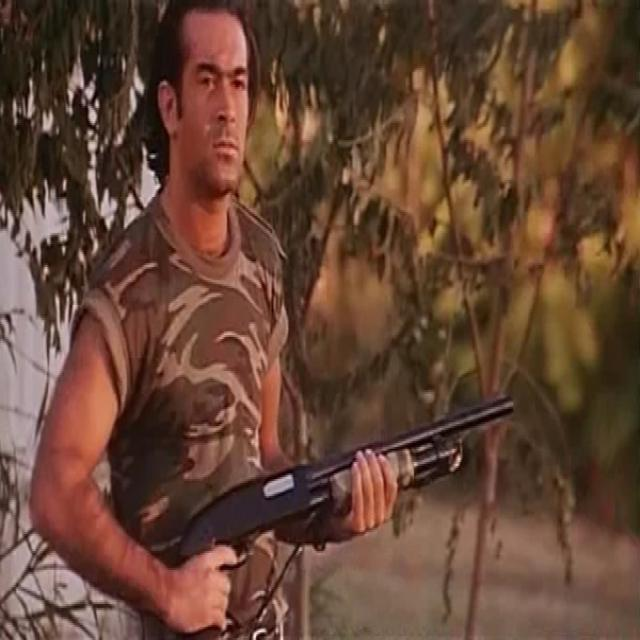rifle: (161, 385, 517, 575)
